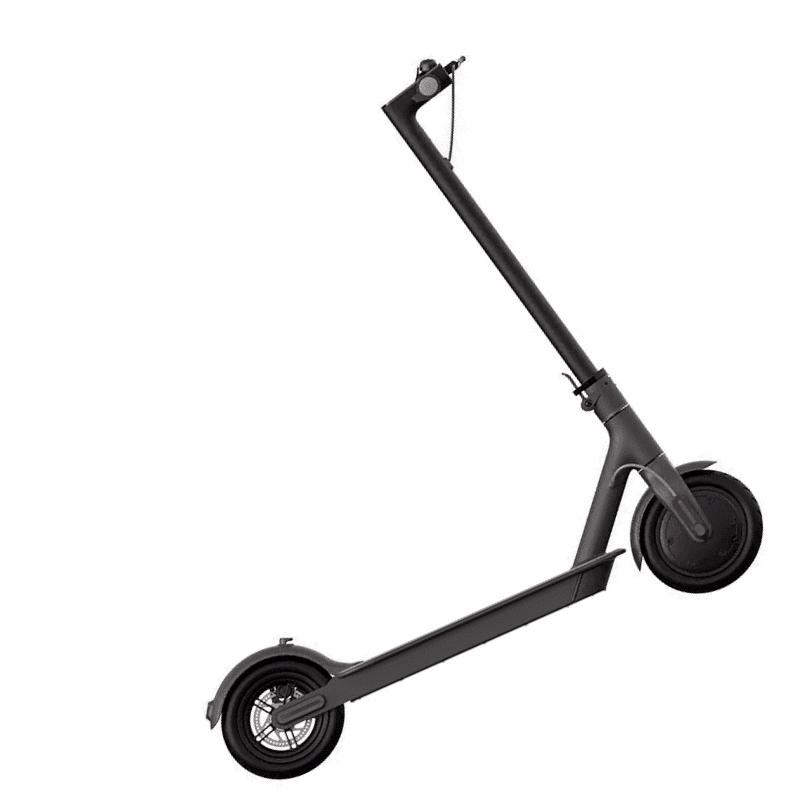scooter: (206, 57, 764, 781)
